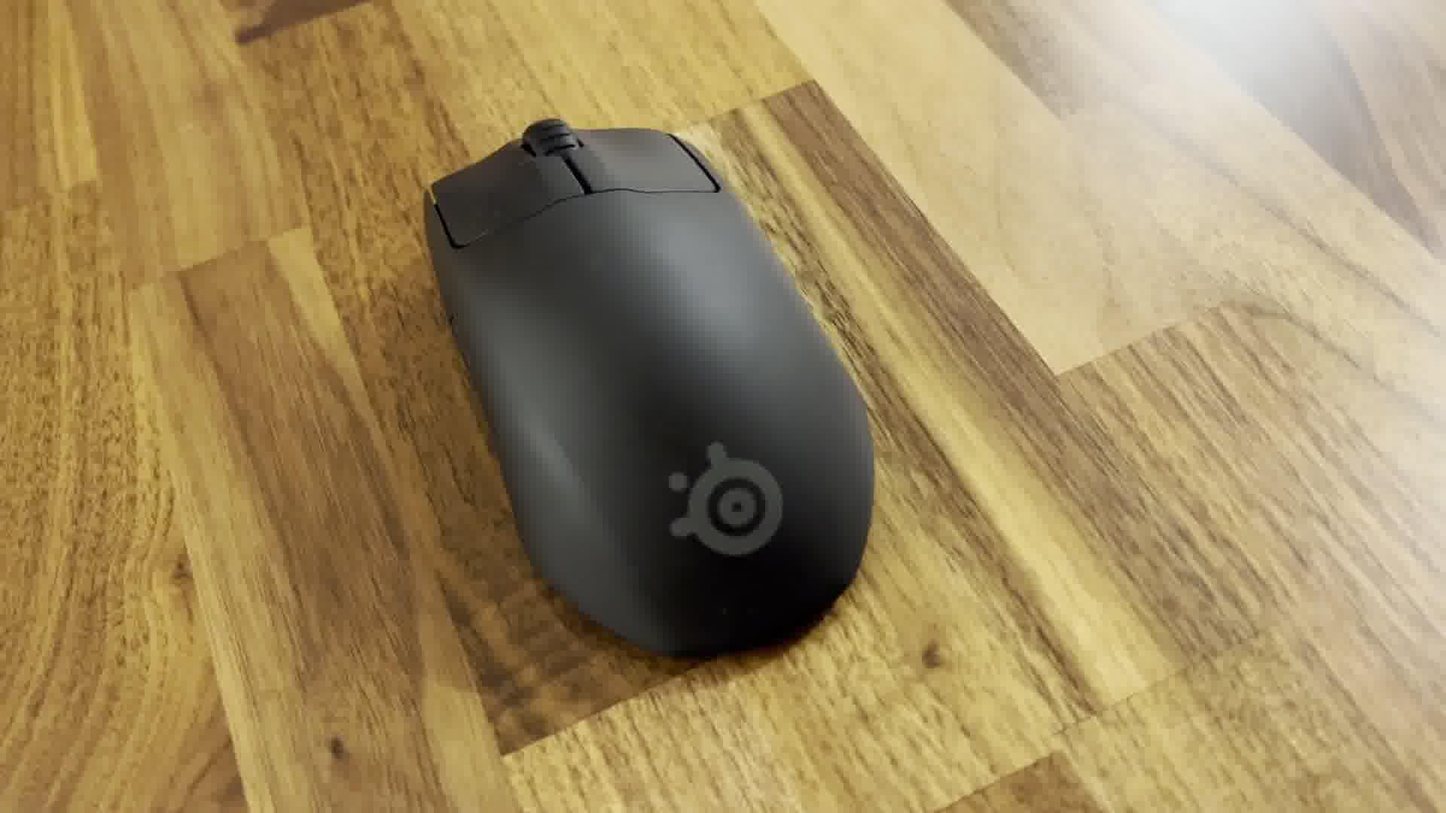steel-series: (413, 108, 883, 665)
